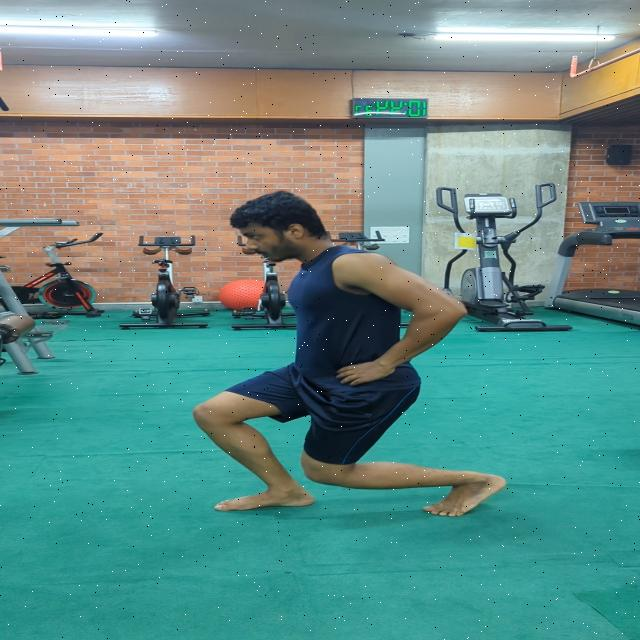Normal_Lunges: (190, 186, 508, 518)
